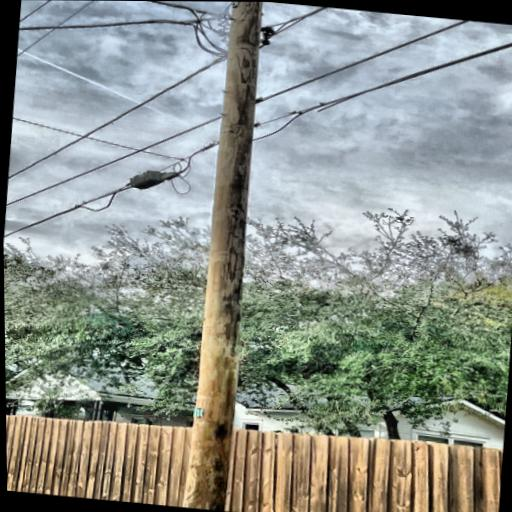pole: (155, 1, 285, 512)
